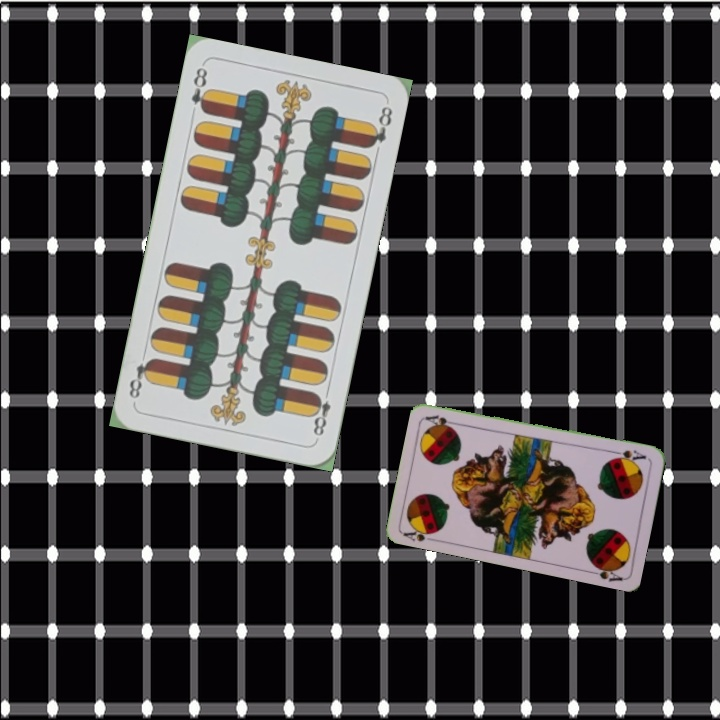E8: (307, 384, 333, 439), (187, 63, 213, 115)
SA: (400, 522, 441, 544), (608, 446, 649, 465)
